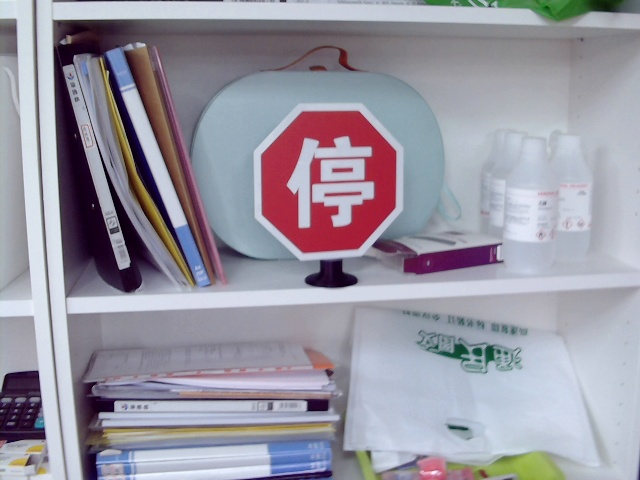stop: (285, 134, 374, 230)
